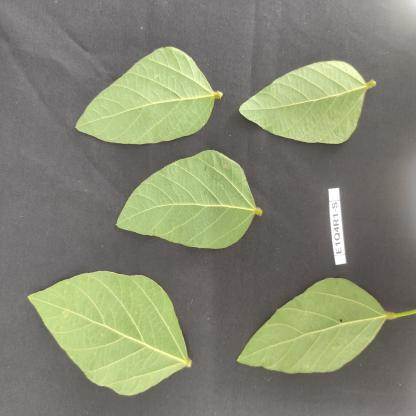label: (325, 189, 348, 268)
leaflets: (26, 258, 205, 396), (233, 271, 388, 392), (63, 46, 224, 141), (112, 151, 278, 242), (239, 52, 380, 141)
